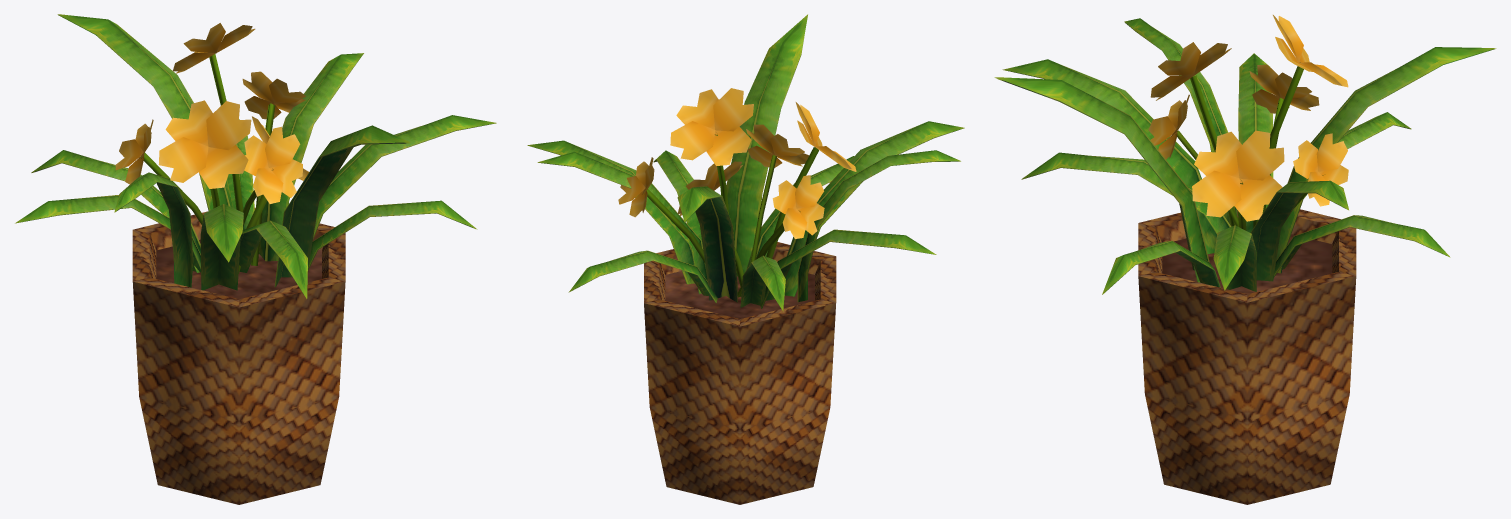
File: FlowerPot_03.FBX
The picture shows the model from 3 angles, left to right: view 1: azimuth 30°, elevation 25°; view 2: azimuth 150°, elevation 25°; view 3: azimuth 270°, elevation 25°; orthographic projection. The views are drawn at different scales.
Visible parts, largest first — view 1: FlowerPot_03; view 2: FlowerPot_03; view 3: FlowerPot_03.
Boxes of the visible parts, x1,y1,x2,y2 form: FlowerPot_03: (15, 14, 496, 504); FlowerPot_03: (527, 14, 964, 504); FlowerPot_03: (994, 15, 1496, 504).
Size of the model in its own units: 1.43 by 1.3 by 1.26.
